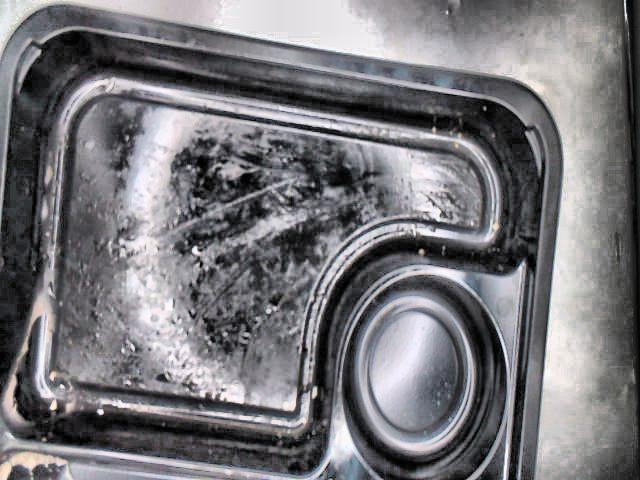Plastic: (0, 0, 564, 480)
